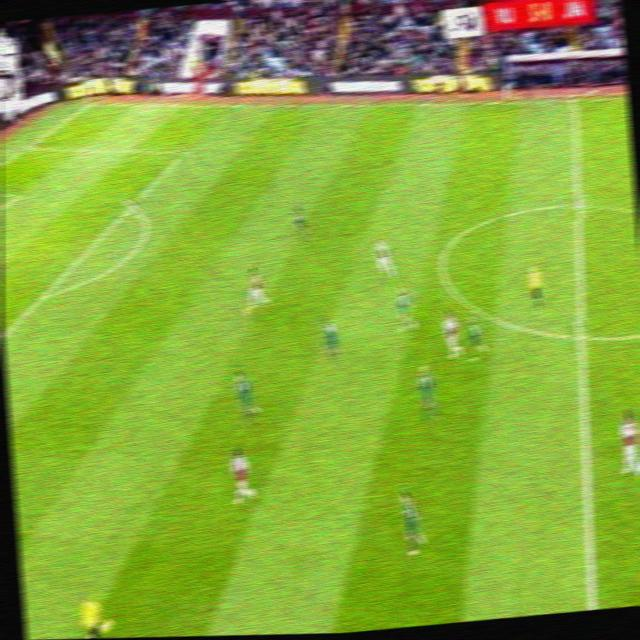bigarea_top_inner: (176, 140, 194, 161)
bigarea_top_outter: (20, 139, 36, 155)
bottom_arc_area_intersection: (36, 284, 53, 304)
corner: (83, 95, 102, 109)
halfcircle_bottom: (568, 318, 595, 352)
halfcircle_top: (565, 191, 591, 219)
midline_top_intersection: (567, 88, 586, 107)
smallarea_top_inner: (10, 185, 29, 203)
top_arc_area_intersection: (123, 196, 141, 215)
